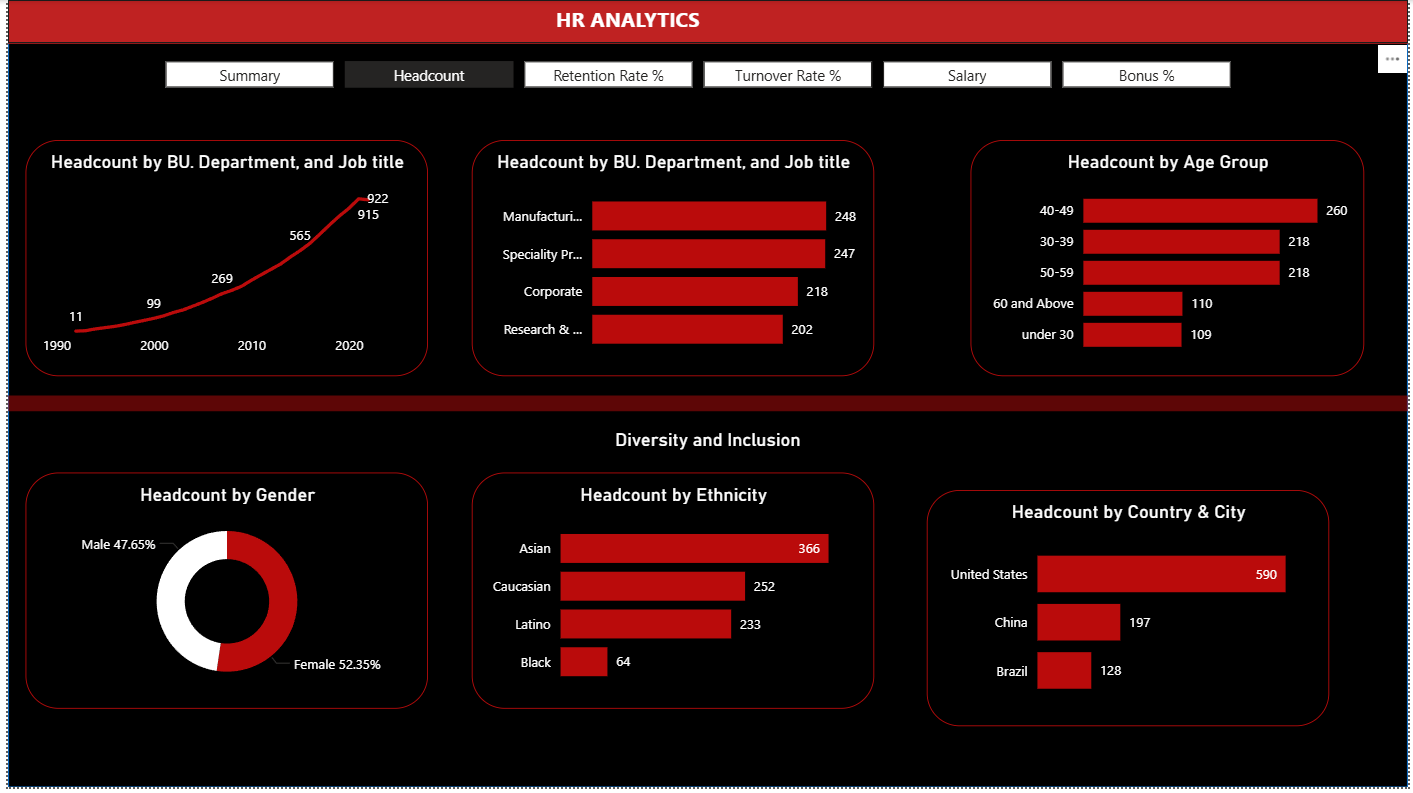

The dashboard page shown, as its layout file describes it:
{"tool":"powerbi","page":{"name":"Headcount","canvas":[1280,720],"ordinal":1},"visuals":[{"type":"shape","box":[0,0,1280,720],"z":0},{"type":"shape","box":[0,0,1280,40],"z":1000},{"type":"textbox","box":[496,0,312,40],"z":2000},{"type":"clusteredBarChart","title":"Headcount by BU. Department, and Job title","fields":{"Category":["TBL_Employees.Business Unit","TBL_Employees.Department","TBL_Employees.Job Title"],"Y":["TBL_Employees.Headcount"]},"box":[424,128,368,216],"z":3000},{"type":"actionButton","box":[0,360,1280,16],"z":4000},{"type":"shape","title":"Diversity and Inclusion","box":[544,392,192,24],"z":5000},{"type":"clusteredBarChart","title":"Headcount by Age Group","fields":{"Category":["TBL_Employees.Age Band"],"Y":["TBL_Employees.Headcount"]},"box":[880,128,360,216],"z":6000},{"type":"lineChart","title":"Headcount by BU. Department, and Job title","fields":{"Y":["TBL_Employees.Active Headcount"],"Category":["Date.Year"]},"box":[16,128,368,216],"z":7000},{"type":"clusteredBarChart","title":"Headcount by Ethnicity","fields":{"Category":["TBL_Employees.Ethnicity"],"Y":["TBL_Employees.Headcount"]},"box":[424,432,368,216],"z":8000},{"type":"clusteredBarChart","title":"Headcount by Country & City","fields":{"Category":["TBL_Employees.Country","TBL_Employees.City"],"Y":["TBL_Employees.Headcount"]},"box":[840,448,368,216],"z":9000},{"type":"donutChart","title":"Headcount by Gender","fields":{"Category":["TBL_Employees.Gender"],"Y":["TBL_Employees.Headcount"]},"box":[16,432,368,216],"z":10000},{"type":"pageNavigator","box":[144,56,976,24],"z":11000}]}

Visuals, with their boxes in screenshot pixels (x1, y1, x2, y2), scaled from the page's 1280x720 canvas onto the 1413x793 screenshot:
shape: locate(0, 0, 1412, 792)
shape: locate(0, 0, 1412, 44)
textbox: locate(548, 0, 892, 44)
"Headcount by BU. Department, and Job title" clusteredBarChart: locate(468, 141, 874, 379)
actionButton: locate(0, 397, 1412, 414)
"Diversity and Inclusion" shape: locate(601, 432, 812, 458)
"Headcount by Age Group" clusteredBarChart: locate(971, 141, 1369, 379)
"Headcount by BU. Department, and Job title" lineChart: locate(18, 141, 424, 379)
"Headcount by Ethnicity" clusteredBarChart: locate(468, 476, 874, 714)
"Headcount by Country & City" clusteredBarChart: locate(927, 493, 1334, 731)
"Headcount by Gender" donutChart: locate(18, 476, 424, 714)
pageNavigator: locate(159, 62, 1236, 88)
